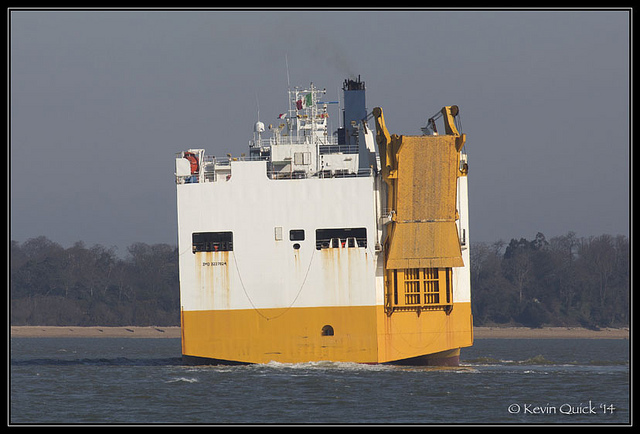PCC: (174, 74, 476, 366)
